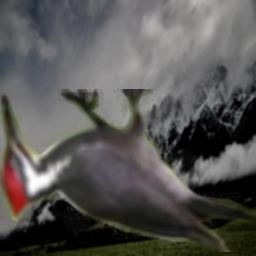Woodpecker: (0, 89, 256, 252)
